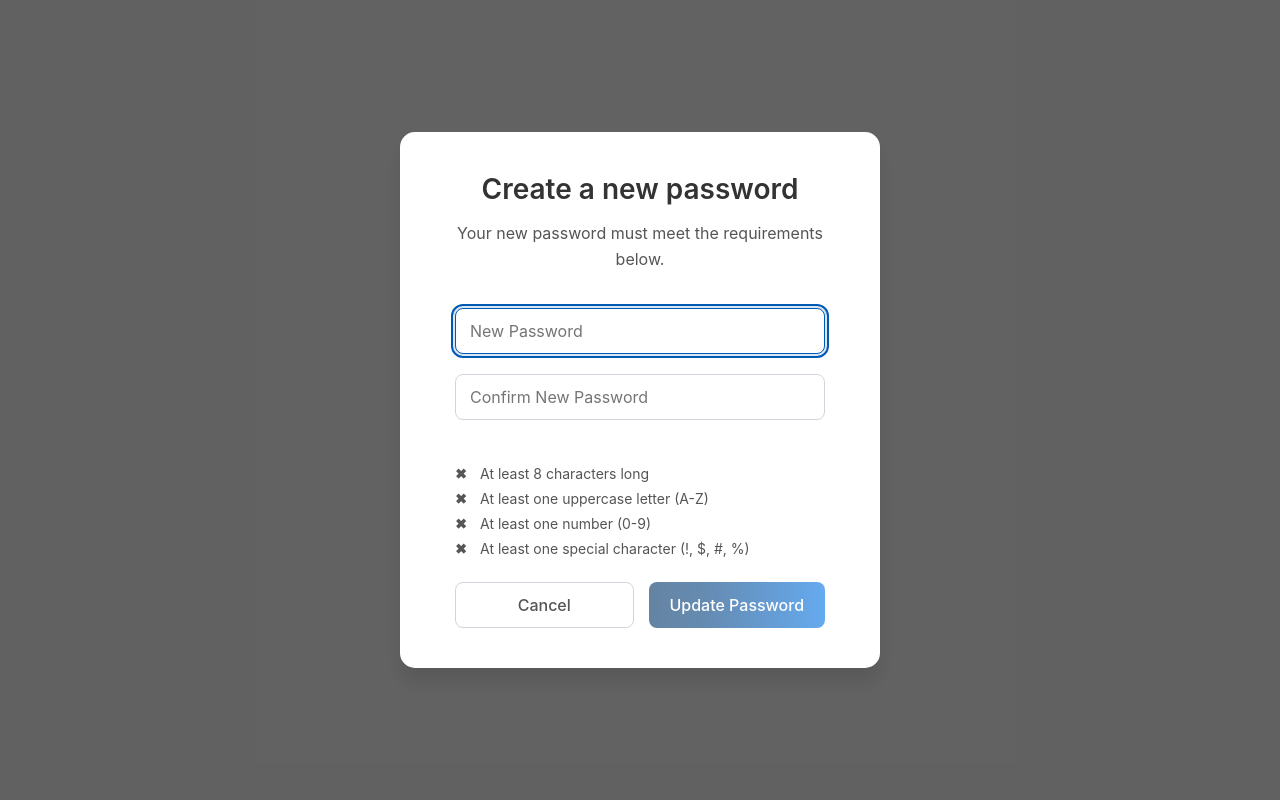
Test: ChangePasswordModal › shows error when passwords do not match
This screenshot has width=1280, height=800.
Type "Valid123!" into the password field with placeholder "New Password".
click(640, 331); type("Valid123!")  # box [455,308,825,354]
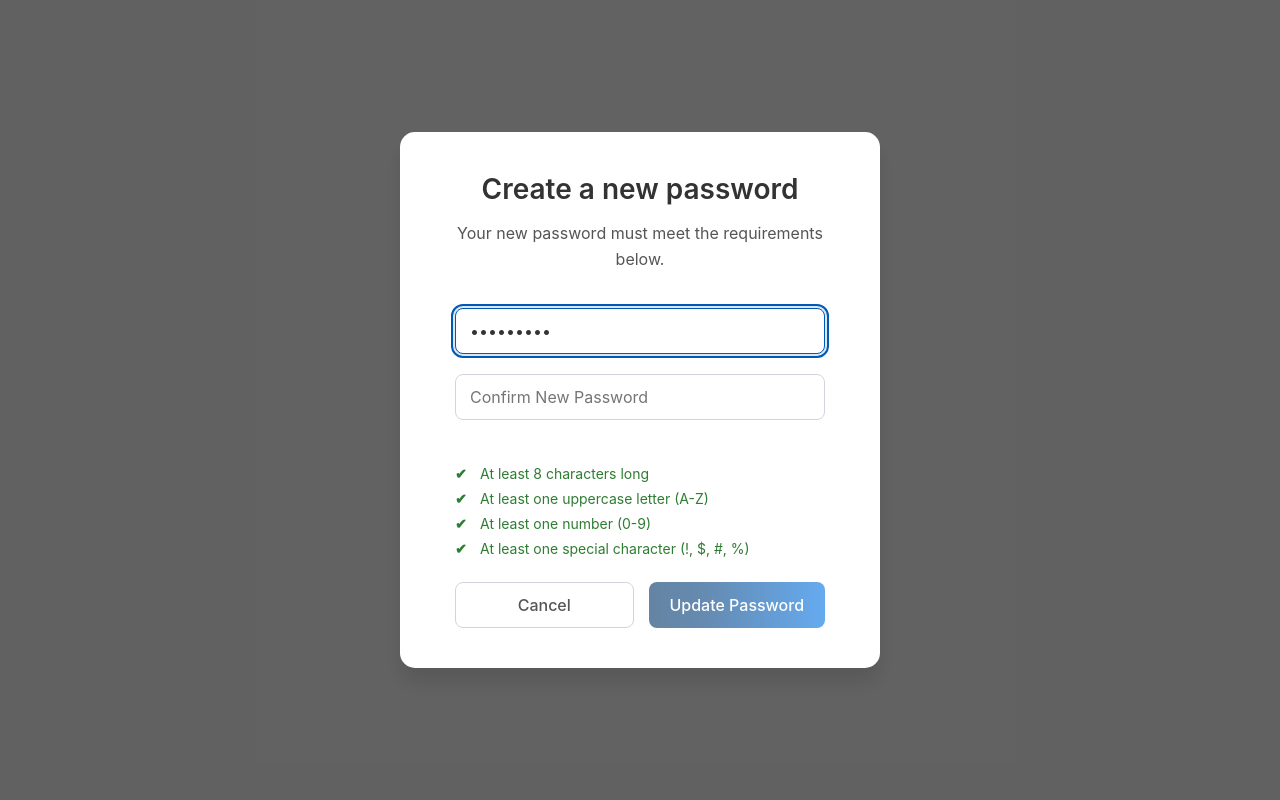
Type "Valid123!Mismatch" into the password field with placeholder "Confirm New Password".
click(640, 397); type("Valid123!Mismatch")  # box [455,374,825,420]
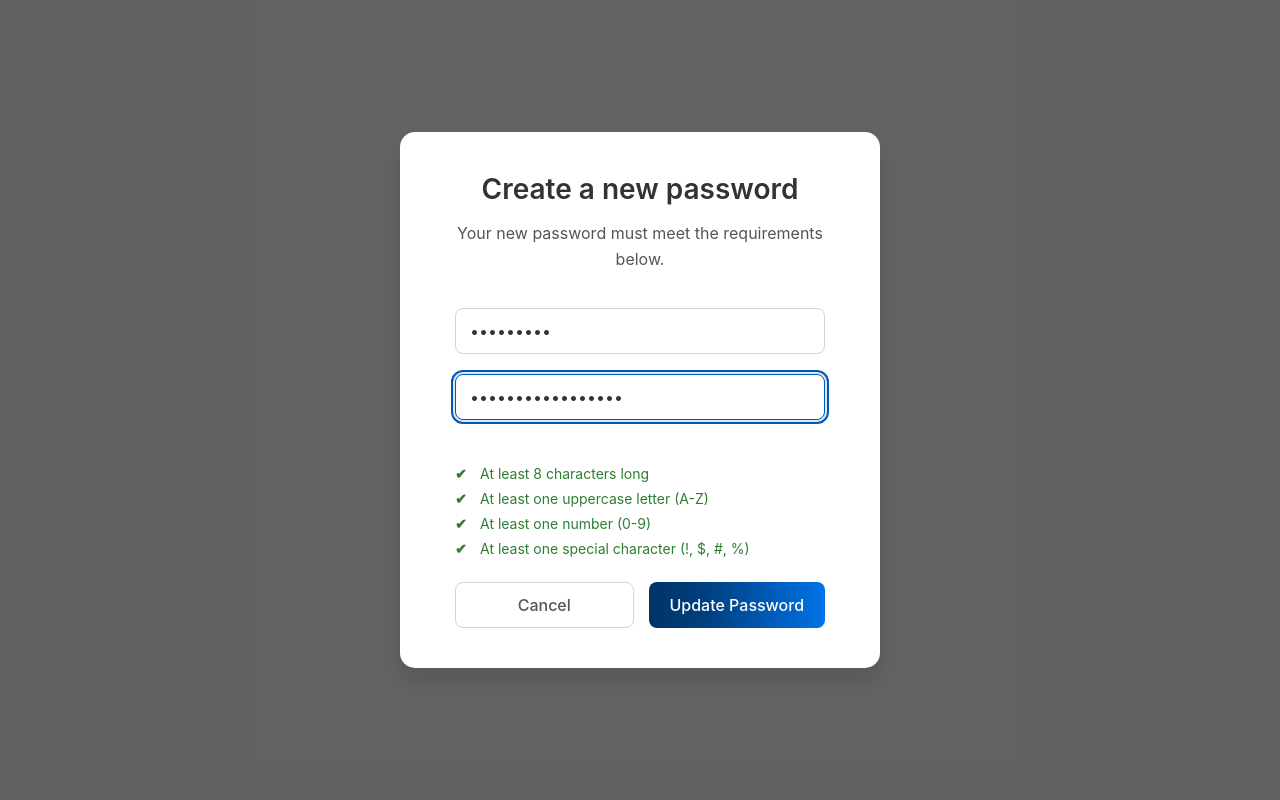
Click the button "Update Password".
click(737, 605)  # box [648,582,825,628]
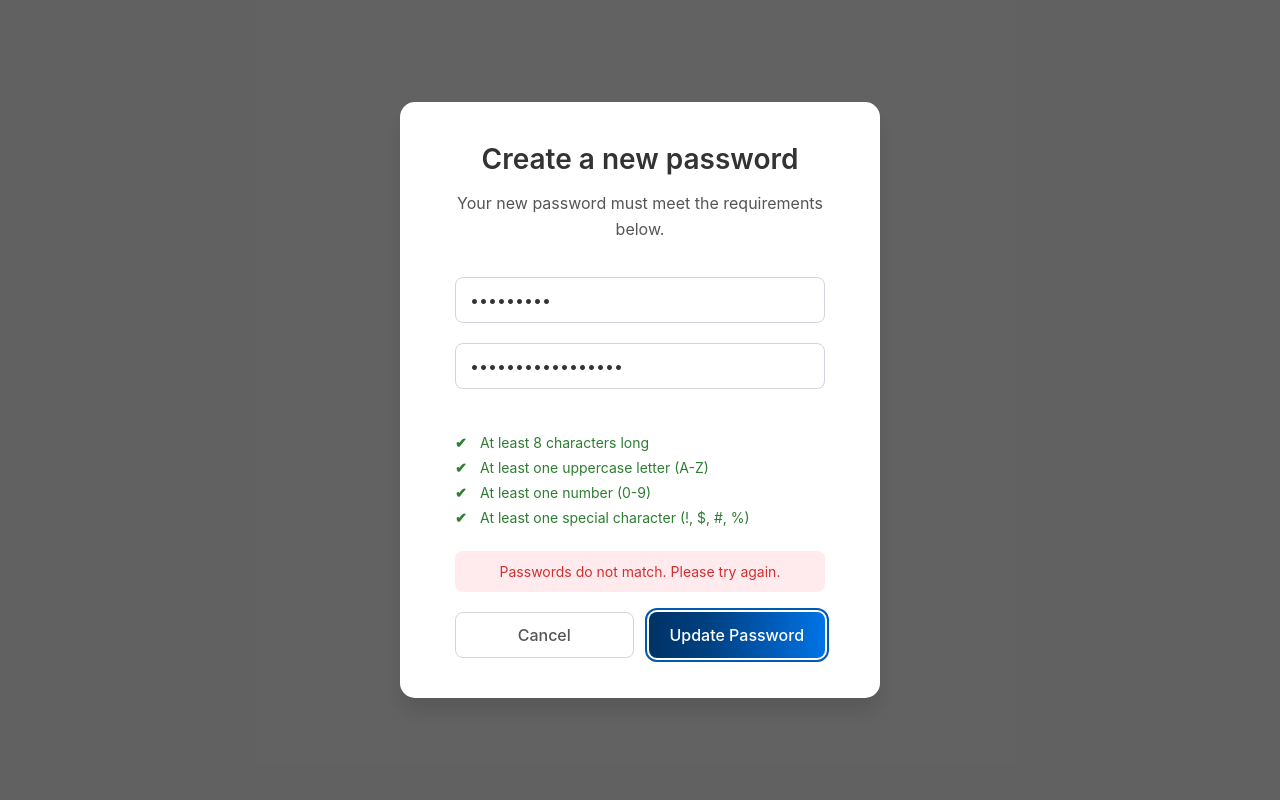
Check: the message reads "Passwords do not match. Please try again.", box [500,563,780,580]
